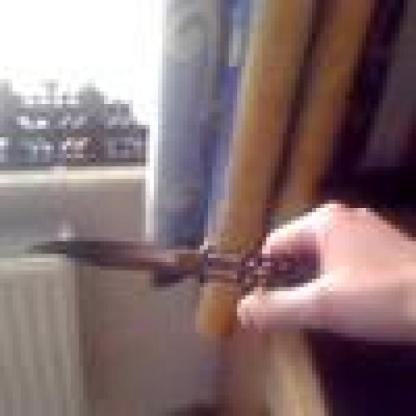Knife: (13, 174, 378, 354)
